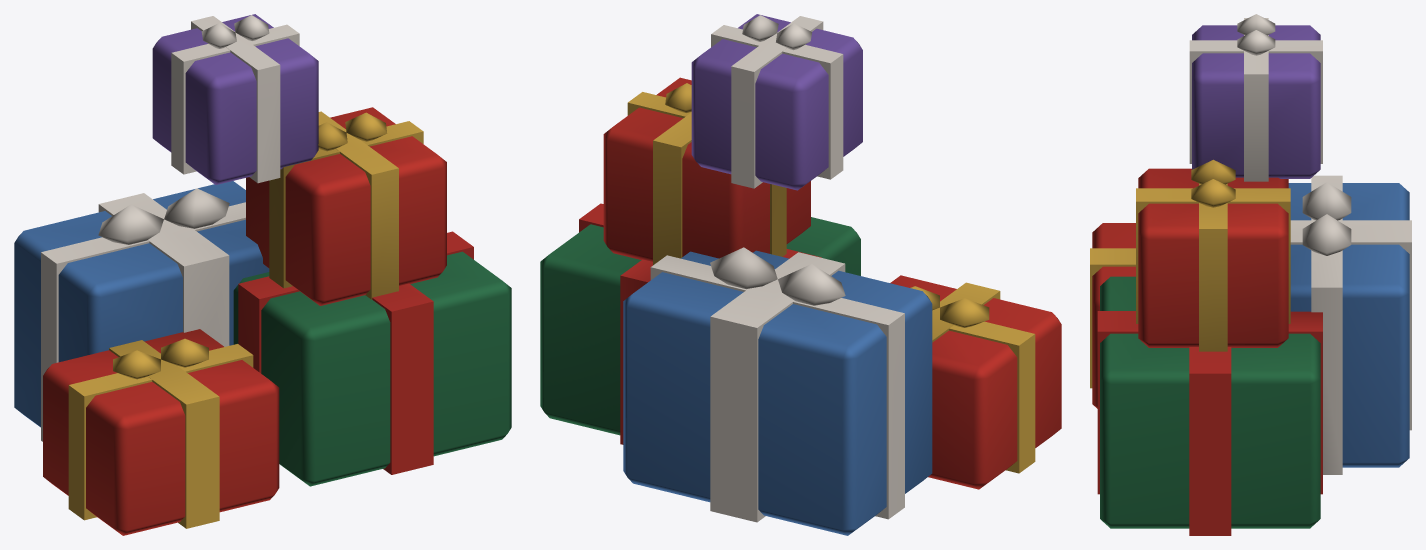
The model's file is present_pile.glb.
3 renders of one model, left to right at view 1: azimuth 30°, elevation 25°; view 2: azimuth 150°, elevation 25°; view 3: azimuth 270°, elevation 25°, orthographic. The views are drawn at different scales.
Parts seen in each view (by area): view 1: present_pile; view 2: present_pile; view 3: present_pile.
Part boxes in pixels (bbox=[...]): present_pile: bbox=[14, 14, 511, 535]; present_pile: bbox=[540, 14, 1061, 535]; present_pile: bbox=[1090, 14, 1411, 535].
Size of the model in its own units: 1.52 by 1.49 by 1.05.
